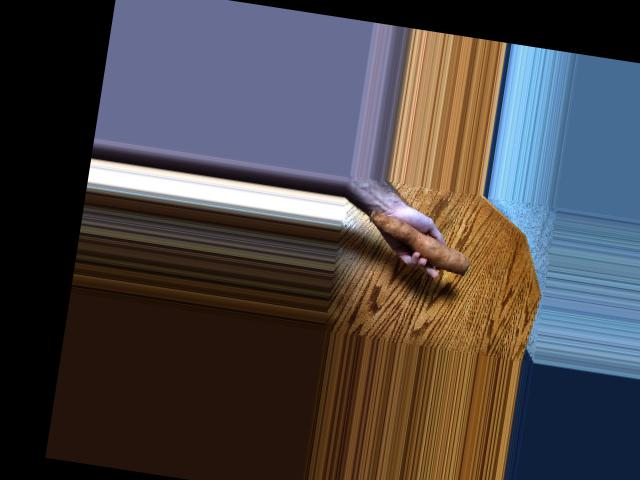sweet_potato: (359, 206, 476, 278)
